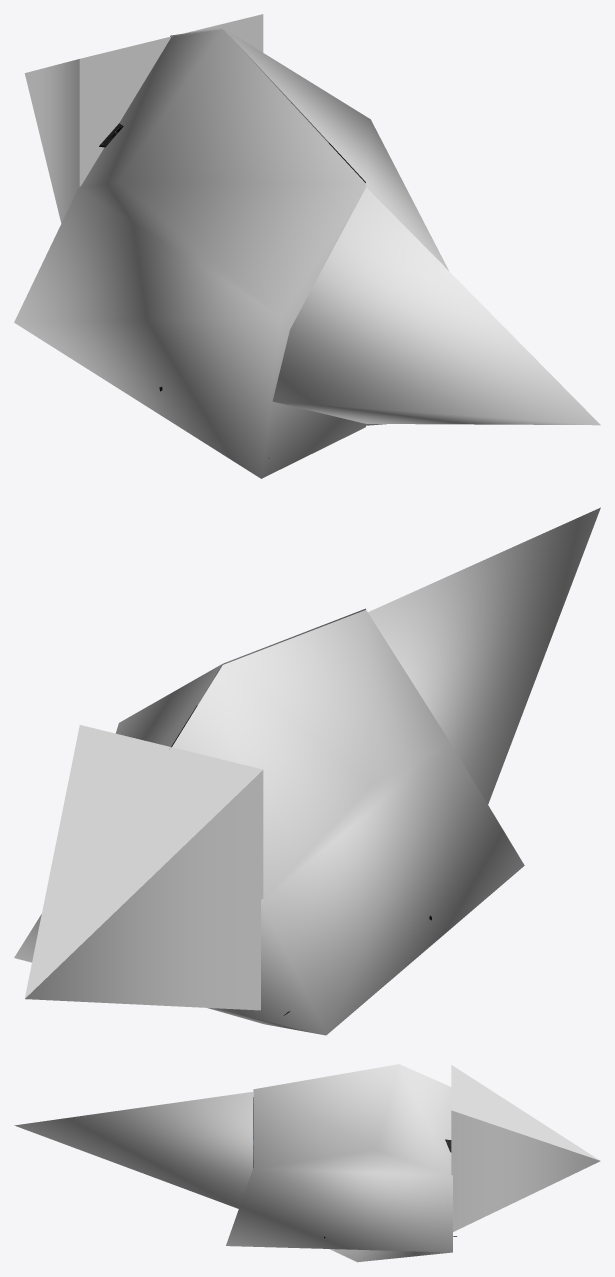
Rendered from ShipD0501f.FBX.
The picture shows the model from 3 angles, top to bottom: view 1: azimuth 30°, elevation 25°; view 2: azimuth 150°, elevation 25°; view 3: azimuth 270°, elevation 25°; orthographic projection. The views are drawn at different scales.
Visible parts, largest first — view 1: ship_4, ship_1, ship_2, ship_3; view 2: ship_4, ship_2, ship_1, ship_3; view 3: ship_3, ship_1, ship_2.
Part boxes in pixels (x1,y1,x2,y2): ship_4: [14, 29, 365, 478]; ship_1: [272, 187, 600, 425]; ship_2: [24, 14, 263, 222]; ship_3: [170, 28, 448, 425]; ship_4: [172, 610, 524, 1035]; ship_2: [24, 725, 263, 1010]; ship_1: [368, 507, 600, 825]; ship_3: [14, 608, 365, 962]; ship_3: [226, 1064, 452, 1262]; ship_1: [14, 1092, 252, 1208]; ship_2: [451, 1065, 600, 1231].
Size of the model in its own units: 24.14 by 28.84 by 77.15.
